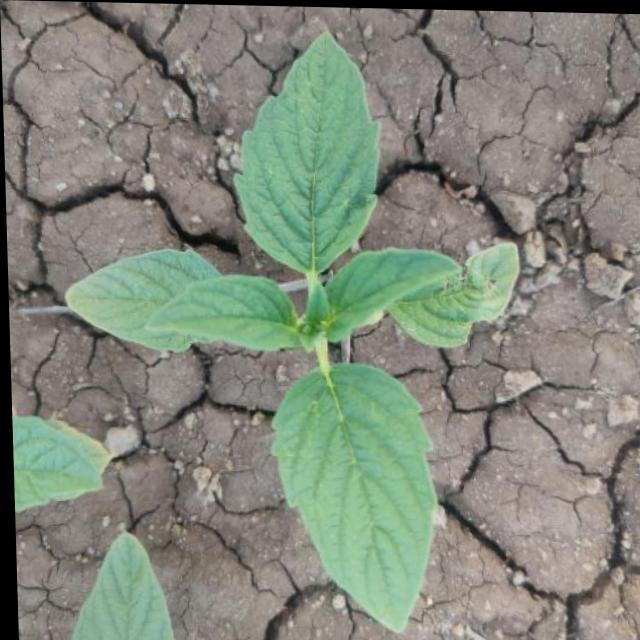crop: (55, 37, 466, 634)
